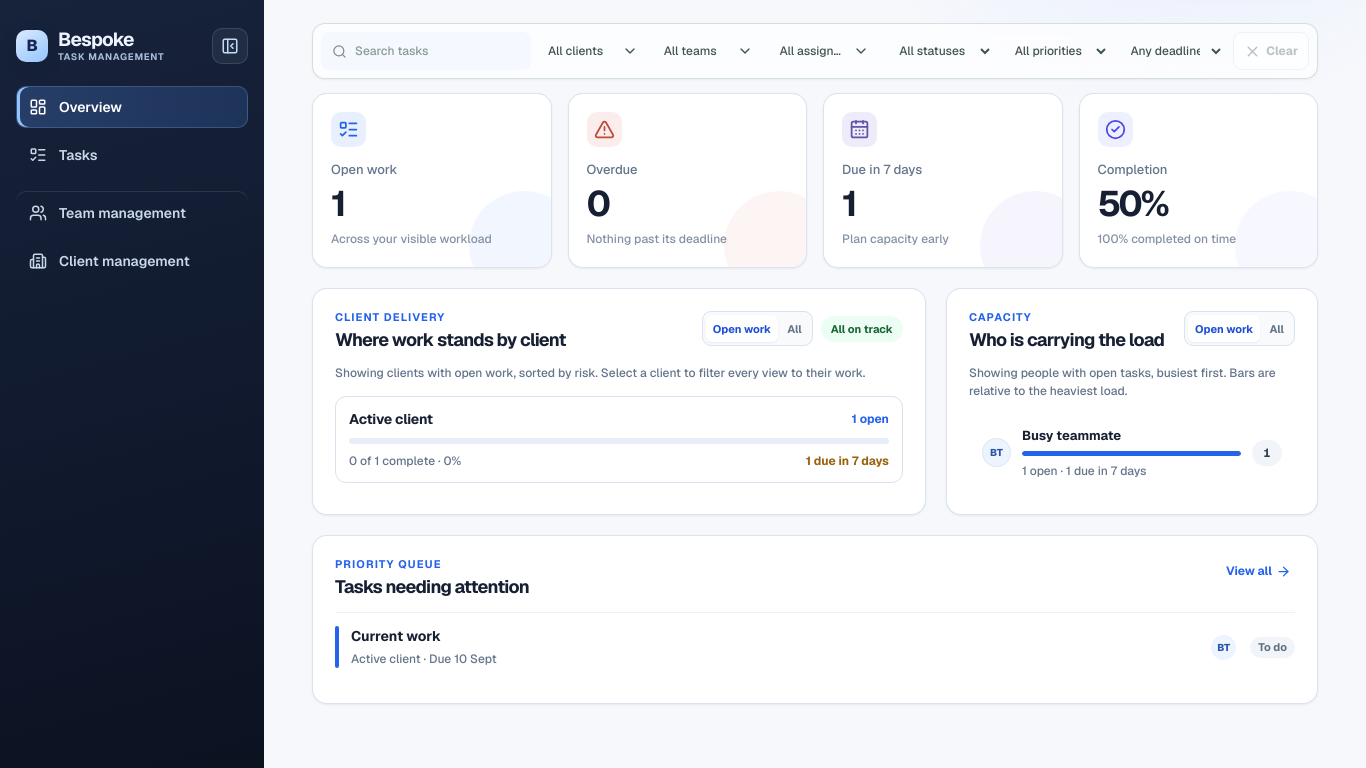
overview workload visibility › lets managers edit task details from the task drawer
(page scrolled)
Click the button "Current work Active client · Due 10 Sept BT To do": (396, 636) [335,612,1295,681]
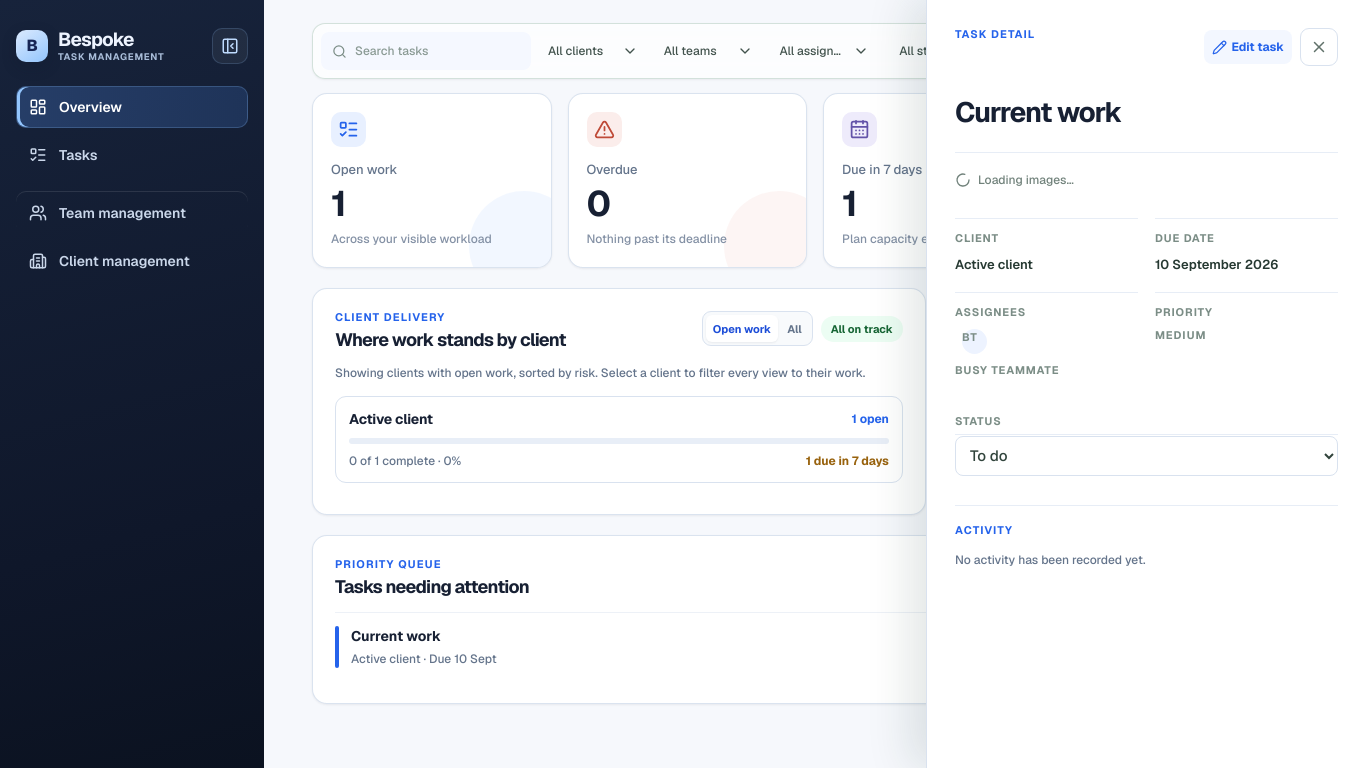
Now the button "Edit task" is shown
Click the button "Edit task": (1248, 47) [1204,30,1292,64]
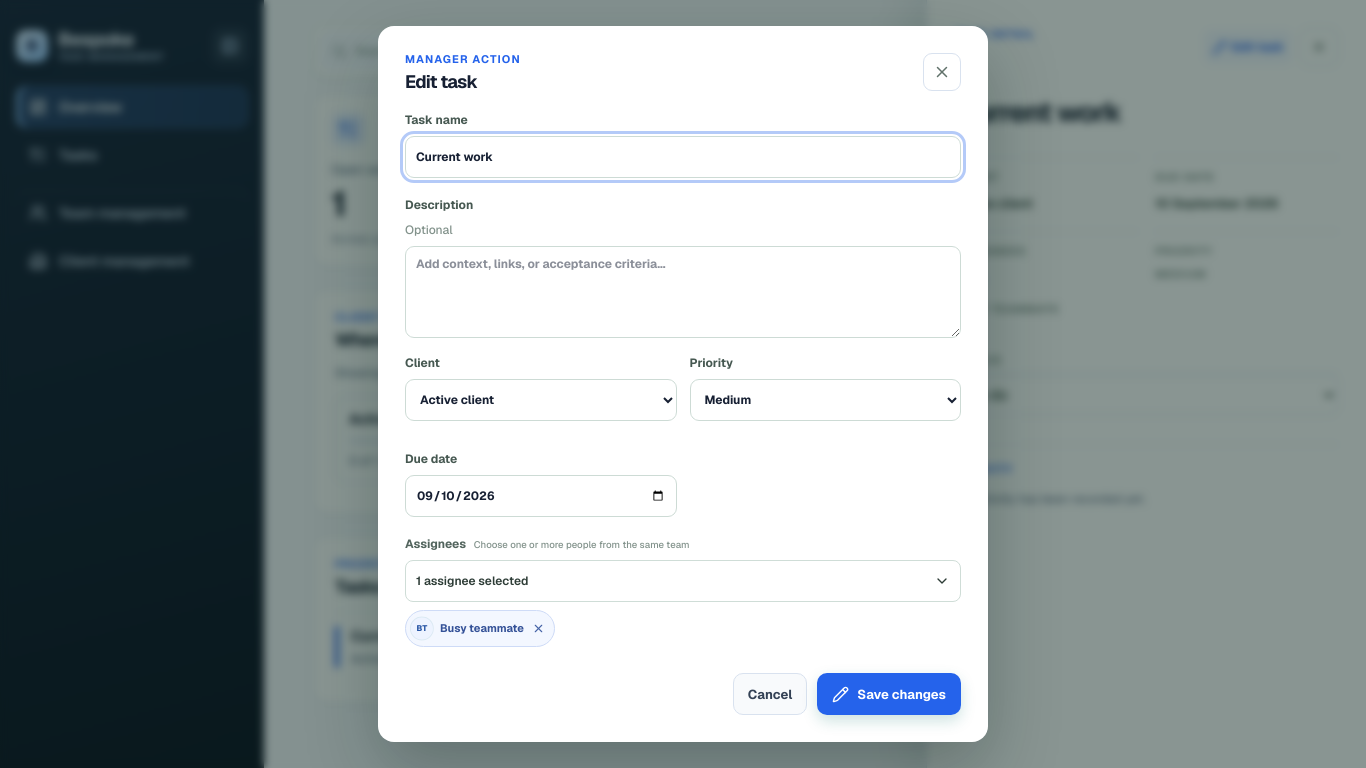
Now the field labelled "Task name" is shown
Replace the text in the field labelled "Task name" with "Revised current work": (683, 157) [405,136,961,178]
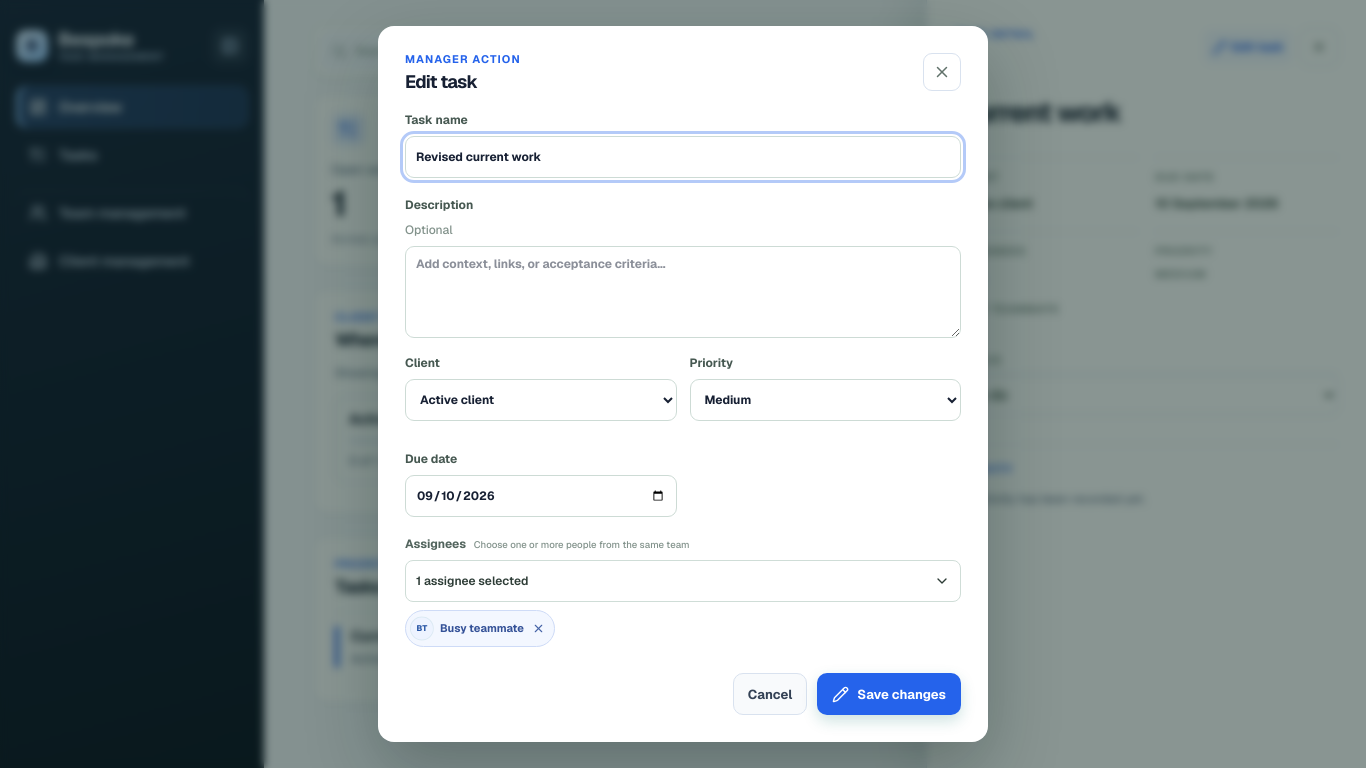
Click the button "Save changes": (889, 694) [817,673,961,715]
(page scrolled)
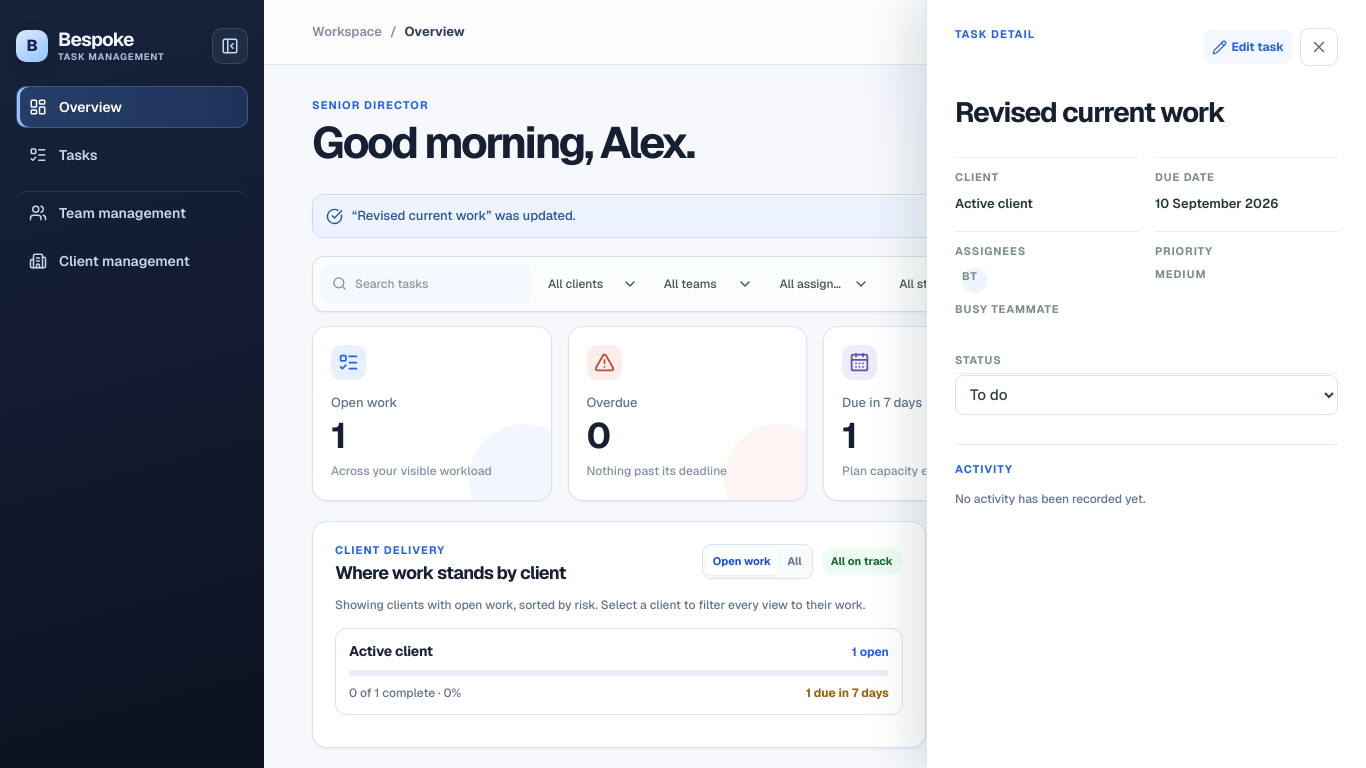
Now the text "“Revised current work” was updated." is shown, box [312,194,1318,238]
